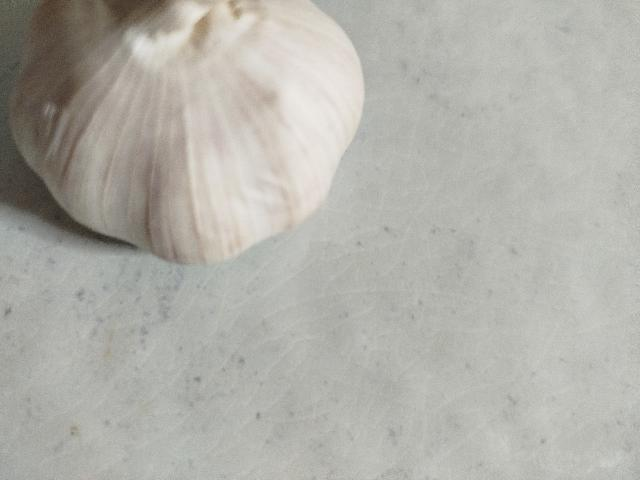garlic: (8, 0, 366, 266)
